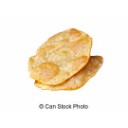poori: (28, 28, 90, 82), (34, 54, 103, 91)
